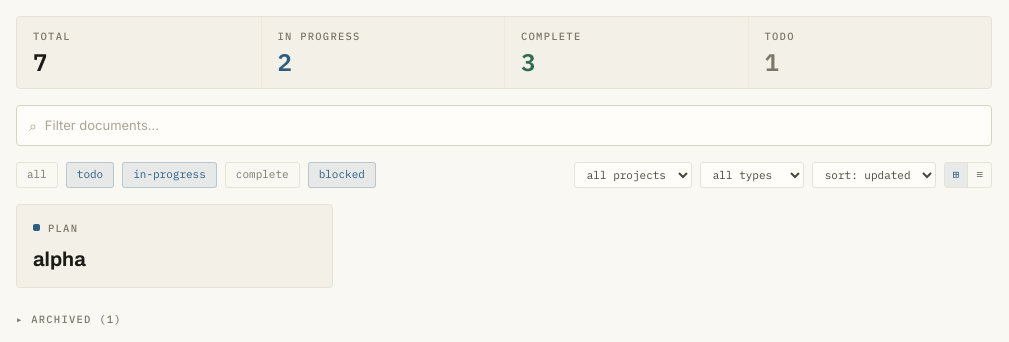
Test: RegistryView › reveals complete docs when the complete pill is toggled on
Expected: the number of links with class "doc-card" is 1, [16, 204, 333, 288]
Step 1. Click the button "complete" → {"x": 262, "y": 175}, box [225, 162, 300, 188]
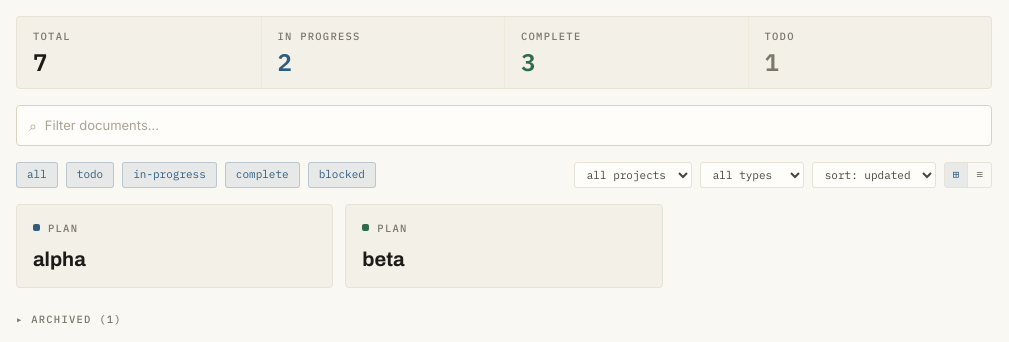
Result: the number of links with class "doc-card" is 2 at [16, 204, 333, 288]; [345, 204, 663, 288]
